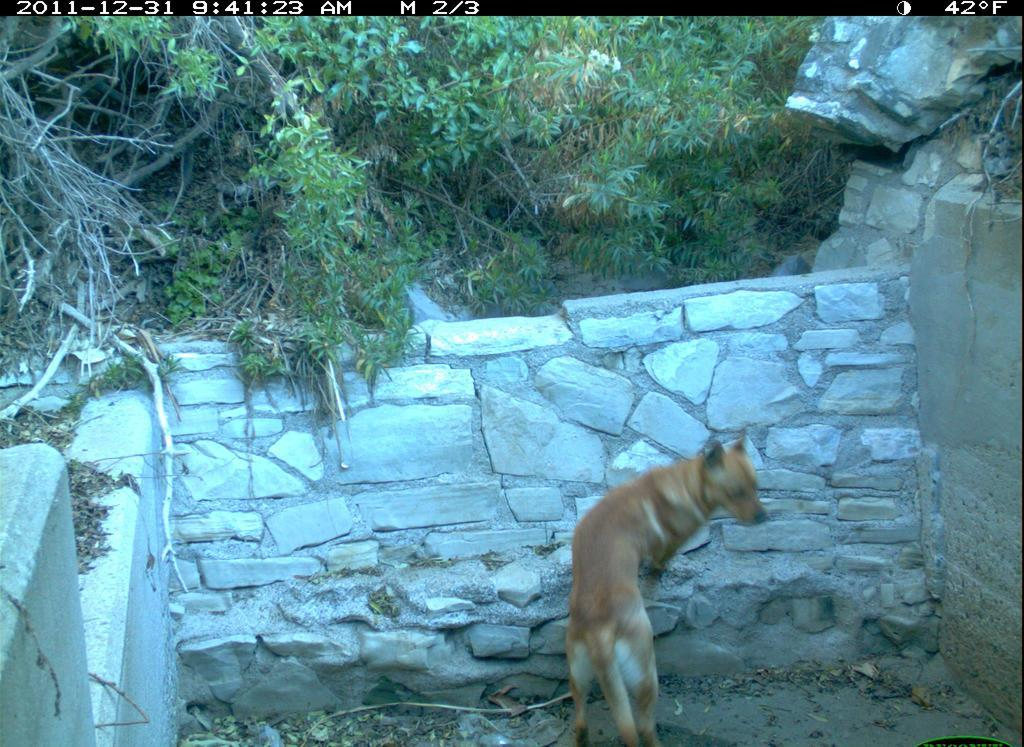dog: (552, 424, 792, 744)
